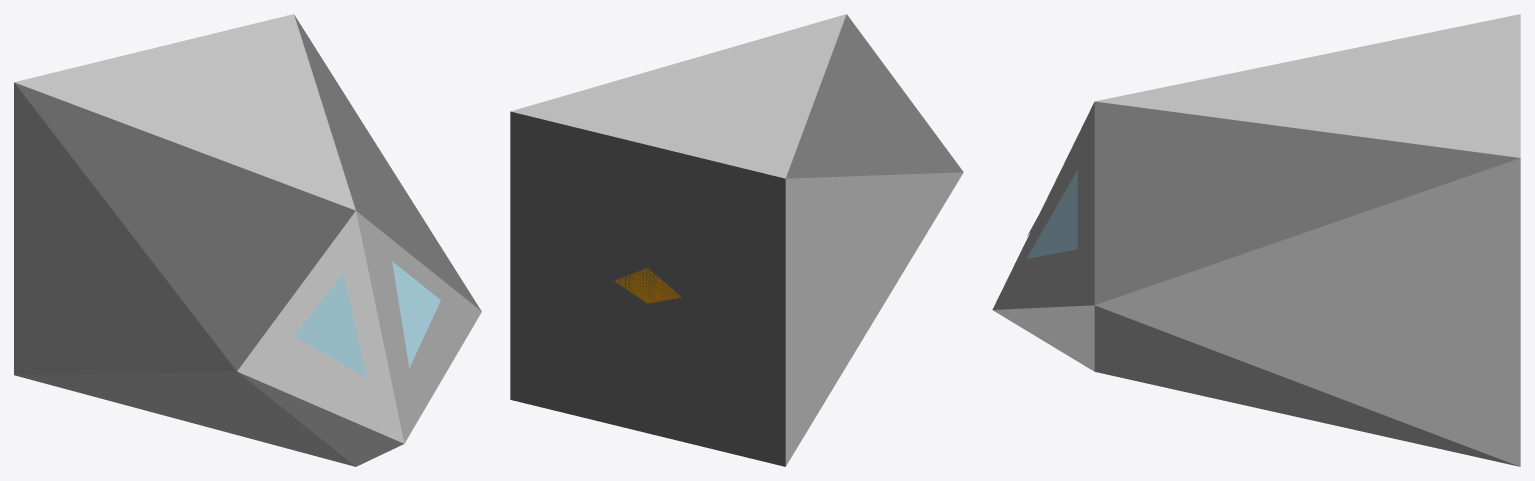
Rendered from shuttle.obj.
3 renders of one model, left to right at view 1: azimuth 30°, elevation 25°; view 2: azimuth 150°, elevation 25°; view 3: azimuth 270°, elevation 25°, orthographic. The views are drawn at different scales.
Size of the model in its own units: 40 by 40 by 62.
